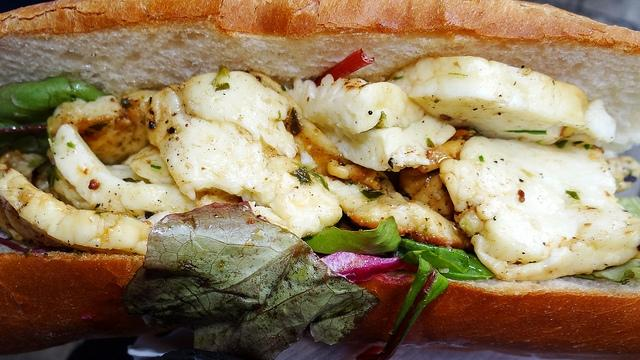lettuce: (123, 201, 380, 360), (301, 214, 495, 280), (1, 76, 108, 130), (592, 259, 640, 285)
